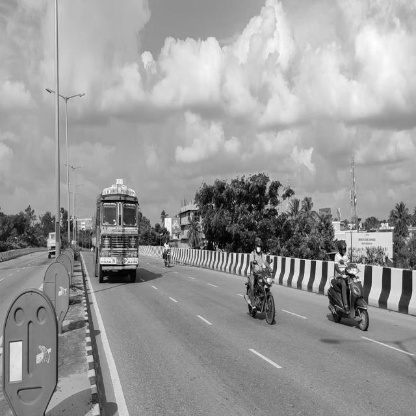bike: (327, 260, 370, 331), (246, 264, 278, 326)
truck: (92, 176, 145, 280)
